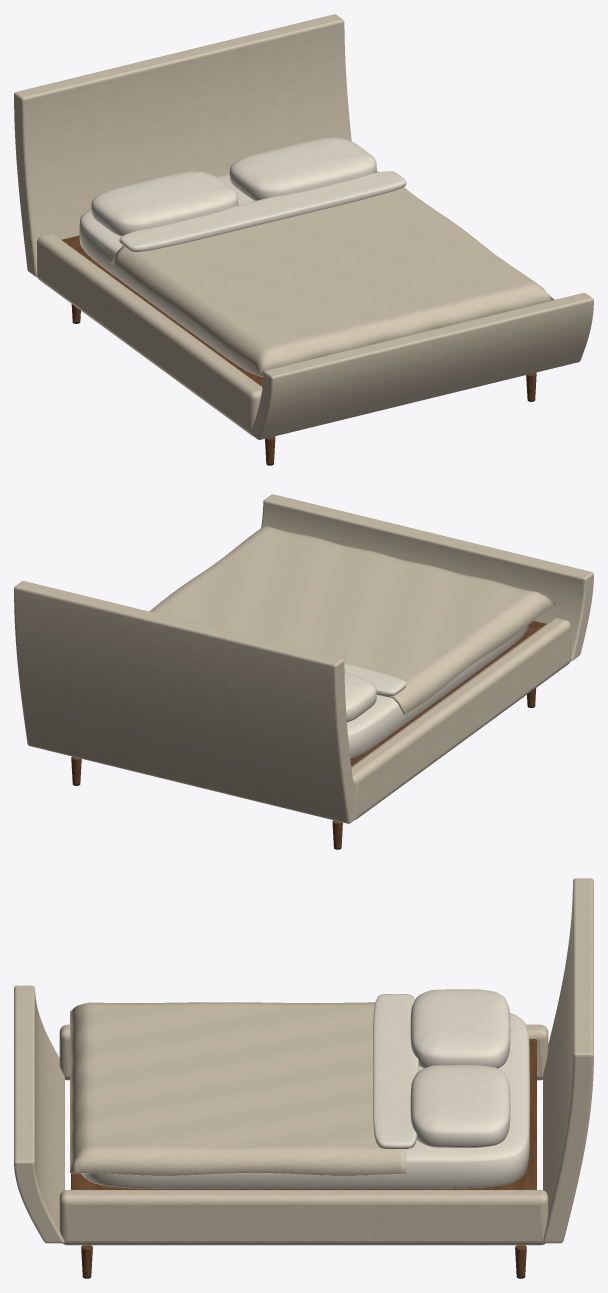
3 views of the same model, one above another, from view 1: azimuth 30°, elevation 25°; view 2: azimuth 150°, elevation 25°; view 3: azimuth 270°, elevation 25° (orthographic). The views are drawn at different scales.
Parts seen in each view (by area): view 1: Bedding | softly draped quilt, Sleigh | swept upholstered headboard, Sleigh | swept upholstered footboard, Sleigh | padded side rail, Bedding | folded return, Bedding | sewn pillow, Bedding | sewn pillow.001, Mattress | upholstered ticking, Bed | hidden mattress support; view 2: Sleigh | swept upholstered headboard, Bedding | softly draped quilt, Sleigh | swept upholstered footboard, Sleigh | padded side rail, Mattress | upholstered ticking, Bedding | sewn pillow, Bedding | folded return, Bed | hidden mattress support; view 3: Bedding | softly draped quilt, Sleigh | padded side rail.001, Sleigh | swept upholstered headboard, Mattress | upholstered ticking, Sleigh | swept upholstered footboard, Bedding | sewn pillow.001, Bedding | sewn pillow, Bedding | folded return, Bed | hidden mattress support, Sleigh | padded side rail.
Part boxes in pixels (bbox=[...]): Bedding | softly draped quilt: bbox=[111, 187, 554, 373]; Sleigh | swept upholstered headboard: bbox=[14, 14, 351, 276]; Sleigh | swept upholstered footboard: bbox=[250, 293, 593, 439]; Sleigh | padded side rail: bbox=[37, 234, 262, 435]; Bedding | folded return: bbox=[119, 171, 406, 251]; Bedding | sewn pillow: bbox=[91, 171, 238, 236]; Bedding | sewn pillow.001: bbox=[229, 137, 376, 200]; Mattress | upholstered ticking: bbox=[79, 170, 378, 376]; Bed | hidden mattress support: bbox=[61, 235, 263, 386]; Sleigh | swept upholstered headboard: bbox=[14, 581, 357, 823]; Bedding | softly draped quilt: bbox=[149, 526, 555, 714]; Sleigh | swept upholstered footboard: bbox=[261, 494, 593, 661]; Sleigh | padded side rail: bbox=[351, 618, 570, 819]; Mattress | upholstered ticking: bbox=[347, 625, 528, 758]; Bedding | sewn pillow: bbox=[344, 672, 376, 722]; Bedding | folded return: bbox=[344, 663, 406, 695]; Bed | hidden mattress support: bbox=[350, 620, 545, 766]; Bedding | softly draped quilt: bbox=[70, 1002, 406, 1175]; Sleigh | padded side rail.001: bbox=[59, 1190, 548, 1245]; Sleigh | swept upholstered headboard: bbox=[543, 878, 593, 1243]; Mattress | upholstered ticking: bbox=[81, 1013, 529, 1188]; Sleigh | swept upholstered footboard: bbox=[14, 985, 64, 1243]; Bedding | sewn pillow.001: bbox=[410, 1065, 510, 1147]; Bedding | sewn pillow: bbox=[410, 989, 510, 1068]; Bedding | folded return: bbox=[373, 994, 418, 1148]; Bed | hidden mattress support: bbox=[71, 1039, 536, 1189]; Sleigh | padded side rail: bbox=[59, 1024, 548, 1080].
Bounding box in the file's own units: 1.83 × 1.16 × 2.54.
Materials: 4 (3 with a texture image).
